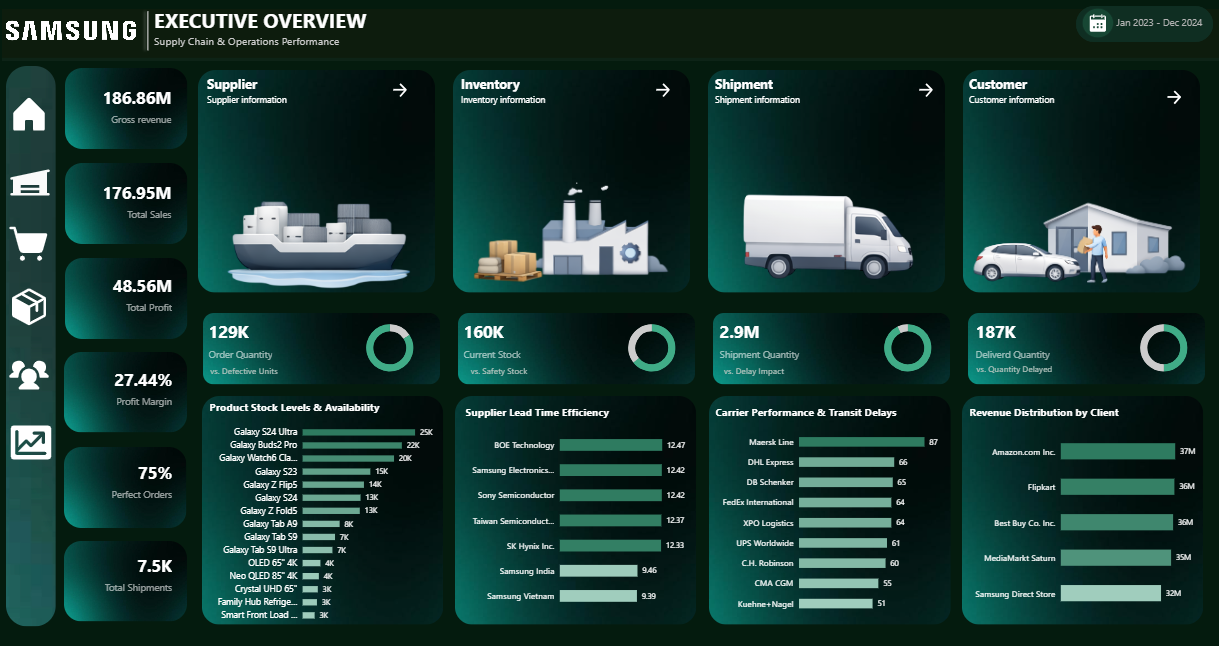

The page's visual inventory and layout, read from the dashboard file:
{"tool":"powerbi","page":{"name":"Overview","canvas":[2035,1080],"ordinal":1},"visuals":[{"type":"shape","box":[0,11.4,2077,91.6],"z":0},{"type":"image","box":[11.4,111.4,82.9,934.3],"z":3000},{"type":"image","box":[1605.7,661.6,402,381],"z":4000},{"type":"image","box":[1182.8,661.4,402.9,381.4],"z":5000},{"type":"image","box":[760.7,661.4,402,381.4],"z":6000},{"type":"image","box":[1614.6,522.6,395.4,118.7],"z":7000},{"type":"image","box":[338.6,661.4,402,381.4],"z":8000},{"type":"image","box":[1189.8,522.6,395.4,118.7],"z":9000},{"type":"image","box":[109.4,273.5,204.1,134.6],"z":10000},{"type":"image","box":[765,522.6,395.4,118.7],"z":11000},{"type":"image","box":[109.2,431.2,204.1,134.6],"z":12000},{"type":"image","box":[340.2,522.6,395.4,118.7],"z":13000},{"type":"image","box":[108.9,745.9,204.1,134.6],"z":14000},{"type":"image","box":[1605.9,118.9,395.4,371.2],"z":15000},{"type":"image","box":[1181,118.9,395.4,371.2],"z":16000},{"type":"image","box":[109.7,115.7,204.1,134.6],"z":17000},{"type":"shape","title":"EXECUTIVE OVERVIEW","box":[258.6,11.4,408.6,75.7],"z":18000},{"type":"image","box":[756.2,118.9,395.4,371.2],"z":19000},{"type":"shape","box":[161.4,11.4,172.9,82.9],"z":20000},{"type":"image","box":[331.4,118.9,395.3,371.2],"z":21000},{"type":"image","box":[0,0,238.9,105.8],"z":22000},{"type":"barChart","title":"Revenue Distribution by Client","fields":{"Category":["dim_customer.customer_name"],"Y":["Measures_table.Total Revenue"]},"box":[1601.4,661.4,408.6,384.3],"z":23000},{"type":"image","box":[107.7,589,205.3,133.7],"z":26000},{"type":"image","box":[15,134.3,70,115],"z":27000},{"type":"image","box":[14.3,454.3,70,115],"z":28000},{"type":"image","box":[108.7,903.7,205.3,133.7],"z":29000},{"type":"image","box":[325.7,292.9,401.5,196.9],"z":30000},{"type":"image","box":[1608.6,288.6,401.5,225.4],"z":31000},{"type":"image","box":[14.3,350,70,115],"z":32000},{"type":"image","box":[17.1,250,70,115],"z":33000},{"type":"image","box":[1175.7,281.4,404.5,205.9],"z":34000},{"type":"cardVisual","fields":{"Data":["Sum(fact_sales.gross_revenue)"]},"box":[98.9,107.1,205.9,143.2],"z":35000},{"type":"image","box":[742.9,267.1,396.9,232.9],"z":36000},{"type":"image","box":[15,566.3,70,115],"z":37000},{"type":"actionButton","box":[1915.7,134.3,85.7,57.1],"z":38000},{"type":"cardVisual","fields":{"Data":["Measures_table.Total_Revenue"]},"box":[104.1,266.8,200.8,139.2],"z":39000},{"type":"actionButton","box":[1468.1,94.5,151.7,113.8],"z":40000},{"type":"actionButton","box":[1029.6,94.5,151.7,113.8],"z":41000},{"type":"cardVisual","fields":{"Data":["Measures_table.Total Profit"]},"box":[103.7,422.4,201.2,139.2],"z":42000},{"type":"shape","title":"Supplier","box":[346.6,126.8,173.4,61.6],"z":43000},{"type":"cardVisual","fields":{"Data":["Measures_table.Profit Margin"]},"box":[103.8,577.9,201.2,139.2],"z":44000},{"type":"cardVisual","fields":{"Data":["Measures_table.Perfect Order"]},"box":[103.9,733.5,201.2,139.2],"z":45000},{"type":"shape","title":"Customer","box":[1616.5,126.8,173.4,61.6],"z":46000},{"type":"shape","title":"Shipment","box":[1193.2,126.8,173.4,61.6],"z":47000},{"type":"cardVisual","fields":{"Data":["Measures_table.Total Shipment"]},"box":[104,889.1,201.2,139.2],"z":48000},{"type":"cardVisual","fields":{"Data":["Measures_table.order Quantity"]},"box":[332.6,502.3,173.4,135.2],"z":49000},{"type":"shape","title":"Inventory","box":[769.9,126.8,173.4,61.6],"z":50000},{"type":"cardVisual","fields":{"Data":["Measures_table.Deliverd Quantity"]},"box":[1611.6,502.3,173.4,135.2],"z":51000},{"type":"cardVisual","fields":{"Data":["Measures_table.Shipment Quantity"]},"box":[1185.2,502.3,173.4,135.2],"z":52000},{"type":"cardVisual","fields":{"Data":["Measures_table.Inventory value"]},"box":[758.9,502.3,173.4,135.2],"z":53000},{"type":"clusteredBarChart","title":"Supplier Lead Time Efficiency","fields":{"Category":["dim_supplier.supplier_name"],"Y":["Measures_table.Avg_Lead_Time"]},"box":[761.4,661.4,398.6,377.1],"z":54000},{"type":"clusteredBarChart","title":"Product Stock Levels & Availability","fields":{"Category":["dim_product.product_name"],"Y":["Measures_table.Inventory Quantity"]},"box":[334.3,652.9,412.9,404.3],"z":55000},{"type":"clusteredBarChart","title":"Carrier Performance & Transit Delays","fields":{"Category":["fact_shipment.carrier"],"Y":["Measures_table.Total Delay"]},"box":[1178.6,661.4,411.4,384.3],"z":56000},{"type":"donutChart","fields":{"Y":["Measures_table.Inventory Quantity","Measures_table.Safety Stock"]},"box":[1005.5,518.4,166,128.2],"z":57000},{"type":"donutChart","fields":{"Y":["Measures_table.Total Shipment","Measures_table.Total Delay"]},"box":[1431.6,517.7,166,128.2],"z":58000},{"type":"donutChart","fields":{"Y":["Measures_table.Deliverd Quantity","Measures_table.Total Quantity Delay"]},"box":[1858,517.7,166,128.2],"z":59000},{"type":"donutChart","fields":{"Y":["Measures_table.Defect Rate","Measures_table.Order Quantity"]},"box":[568.5,518.4,166,128.2],"z":60000},{"type":"textbox","box":[344.6,610.4,126.7,29.3],"z":61000},{"type":"textbox","box":[772,609.4,123.4,30.9],"z":62000},{"type":"textbox","box":[1196.1,609.9,123.3,30.8],"z":63000},{"type":"textbox","box":[1620,607,145.1,32.7],"z":64000},{"type":"actionButton","box":[591.1,94.5,151.7,113.8],"z":65000},{"type":"image","box":[11.7,681.7,83.3,115],"z":66000},{"type":"shape","box":[1795.7,11.4,228.6,60],"z":66001},{"type":"shape","box":[1805.7,15.7,52.9,50],"z":66002},{"type":"textbox","box":[1842.9,28.6,181.4,32.9],"z":66003},{"type":"image","box":[1812.9,20,35.7,41.4],"z":66004}]}

Visuals, with their boxes in screenshot pixels (x1, y1, x2, y2), scaled from the page's 2035x1080 canvas onto the 1219x646 screenshot:
shape: <region>0, 7, 1218, 62</region>
image: <region>7, 67, 56, 625</region>
image: <region>962, 396, 1203, 624</region>
image: <region>709, 396, 950, 624</region>
image: <region>456, 396, 696, 624</region>
image: <region>967, 313, 1204, 384</region>
image: <region>203, 396, 444, 624</region>
image: <region>713, 313, 950, 384</region>
image: <region>66, 164, 188, 244</region>
image: <region>458, 313, 695, 384</region>
image: <region>65, 258, 188, 338</region>
image: <region>204, 313, 441, 384</region>
image: <region>65, 446, 187, 527</region>
image: <region>962, 71, 1199, 293</region>
image: <region>707, 71, 944, 293</region>
image: <region>66, 69, 188, 150</region>
"EXECUTIVE OVERVIEW" shape: <region>155, 7, 400, 52</region>
image: <region>453, 71, 690, 293</region>
shape: <region>97, 7, 200, 56</region>
image: <region>199, 71, 435, 293</region>
image: <region>0, 0, 143, 63</region>
"Revenue Distribution by Client" barChart: <region>959, 396, 1204, 625</region>
image: <region>65, 352, 187, 432</region>
image: <region>9, 80, 51, 149</region>
image: <region>9, 272, 50, 341</region>
image: <region>65, 541, 188, 621</region>
image: <region>195, 175, 436, 293</region>
image: <region>964, 173, 1204, 307</region>
image: <region>9, 209, 50, 278</region>
image: <region>10, 150, 52, 218</region>
image: <region>704, 168, 947, 291</region>
cardVisual - Sum(fact_sales.gross_revenue): <region>59, 64, 183, 150</region>
image: <region>445, 160, 683, 299</region>
image: <region>9, 339, 51, 408</region>
actionButton: <region>1148, 80, 1199, 114</region>
cardVisual - Measures_table.Total_Revenue: <region>62, 160, 183, 243</region>
actionButton: <region>879, 57, 970, 125</region>
actionButton: <region>617, 57, 708, 125</region>
cardVisual - Measures_table.Total Profit: <region>62, 253, 183, 336</region>
"Supplier" shape: <region>208, 76, 311, 113</region>
cardVisual - Measures_table.Profit Margin: <region>62, 346, 183, 429</region>
cardVisual - Measures_table.Perfect Order: <region>62, 439, 183, 522</region>
"Customer" shape: <region>968, 76, 1072, 113</region>
"Shipment" shape: <region>715, 76, 819, 113</region>
cardVisual - Measures_table.Total Shipment: <region>62, 532, 183, 615</region>
cardVisual - Measures_table.order Quantity: <region>199, 300, 303, 381</region>
"Inventory" shape: <region>461, 76, 565, 113</region>
cardVisual - Measures_table.Deliverd Quantity: <region>965, 300, 1069, 381</region>
cardVisual - Measures_table.Shipment Quantity: <region>710, 300, 814, 381</region>
cardVisual - Measures_table.Inventory value: <region>455, 300, 558, 381</region>
"Supplier Lead Time Efficiency" clusteredBarChart: <region>456, 396, 695, 621</region>
"Product Stock Levels & Availability" clusteredBarChart: <region>200, 391, 448, 632</region>
"Carrier Performance & Transit Delays" clusteredBarChart: <region>706, 396, 952, 625</region>
donutChart - Measures_table.Inventory Quantity x Measures_table.Safety Stock: <region>602, 310, 702, 387</region>
donutChart - Measures_table.Total Shipment x Measures_table.Total Delay: <region>858, 310, 957, 386</region>
donutChart - Measures_table.Deliverd Quantity x Measures_table.Total Quantity Delay: <region>1113, 310, 1212, 386</region>
donutChart - Measures_table.Defect Rate x Measures_table.Order Quantity: <region>341, 310, 440, 387</region>
textbox: <region>206, 365, 282, 383</region>
textbox: <region>462, 365, 536, 383</region>
textbox: <region>716, 365, 790, 383</region>
textbox: <region>970, 363, 1057, 383</region>
actionButton: <region>354, 57, 445, 125</region>
image: <region>7, 408, 57, 477</region>
shape: <region>1076, 7, 1213, 43</region>
shape: <region>1082, 9, 1113, 39</region>
textbox: <region>1104, 17, 1213, 37</region>
image: <region>1086, 12, 1107, 37</region>
